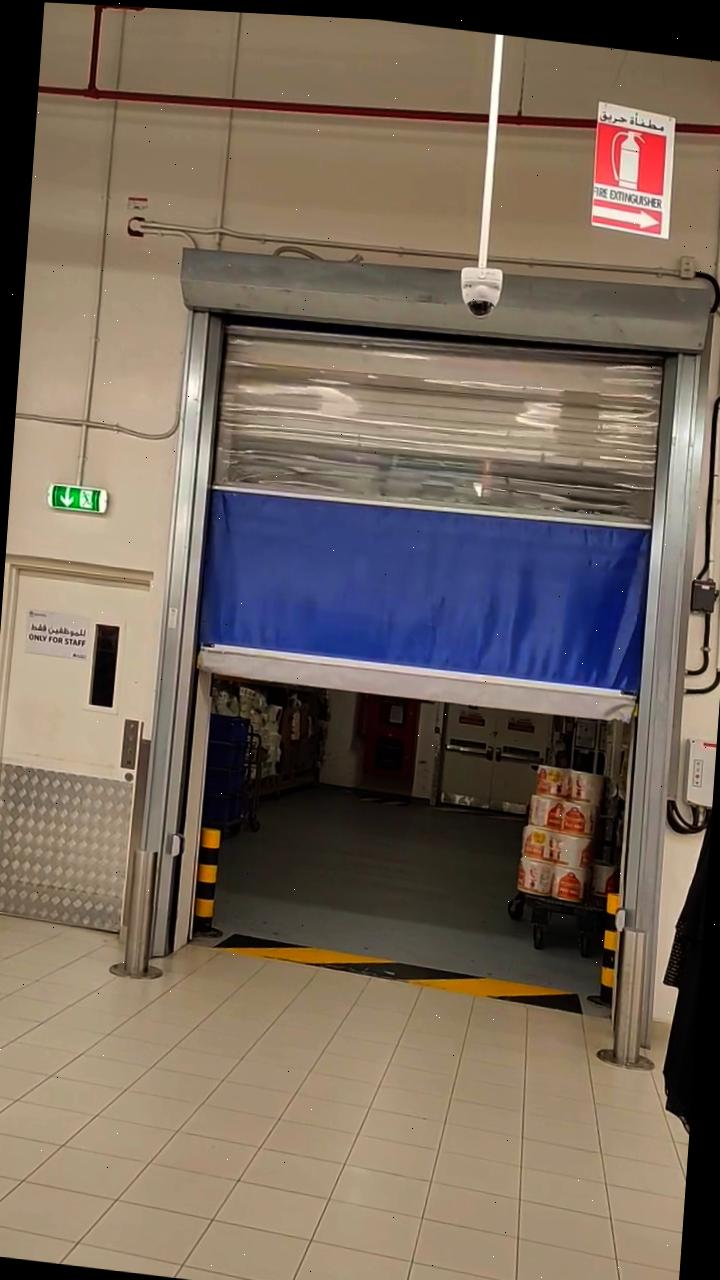Strip: (212, 927, 592, 1013)
